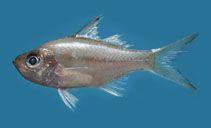Glass Perchlet: (12, 14, 200, 112)
